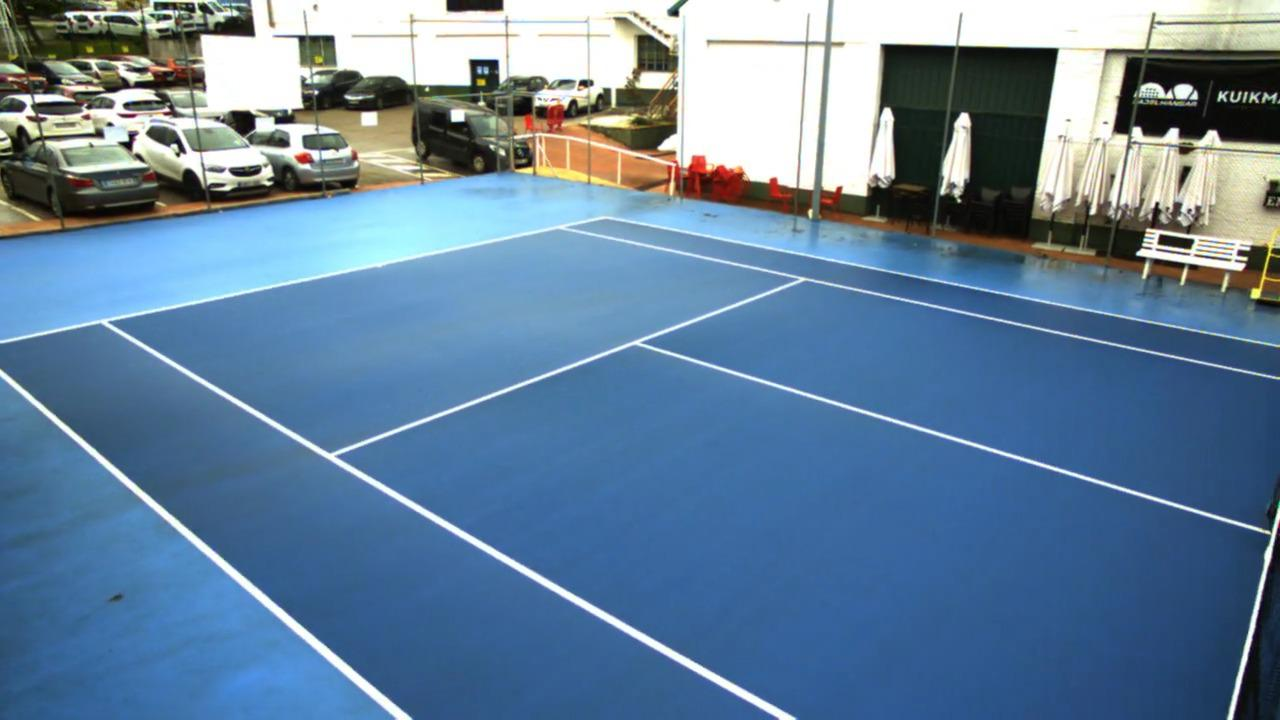cancha_tenis: (104, 227, 1280, 720)
point_f1: (93, 307, 121, 337)
point_f2: (548, 218, 574, 238)
point_fc1: (368, 253, 391, 275)
point_i1: (315, 438, 349, 471)
point_i2: (785, 268, 818, 291)
point_ic1: (623, 328, 656, 356)
